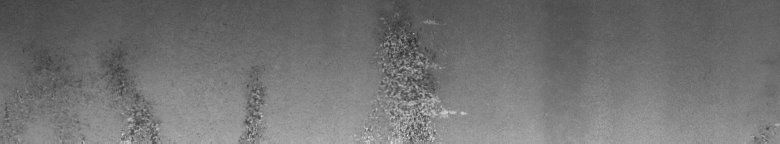hc: (364, 13, 467, 136)
